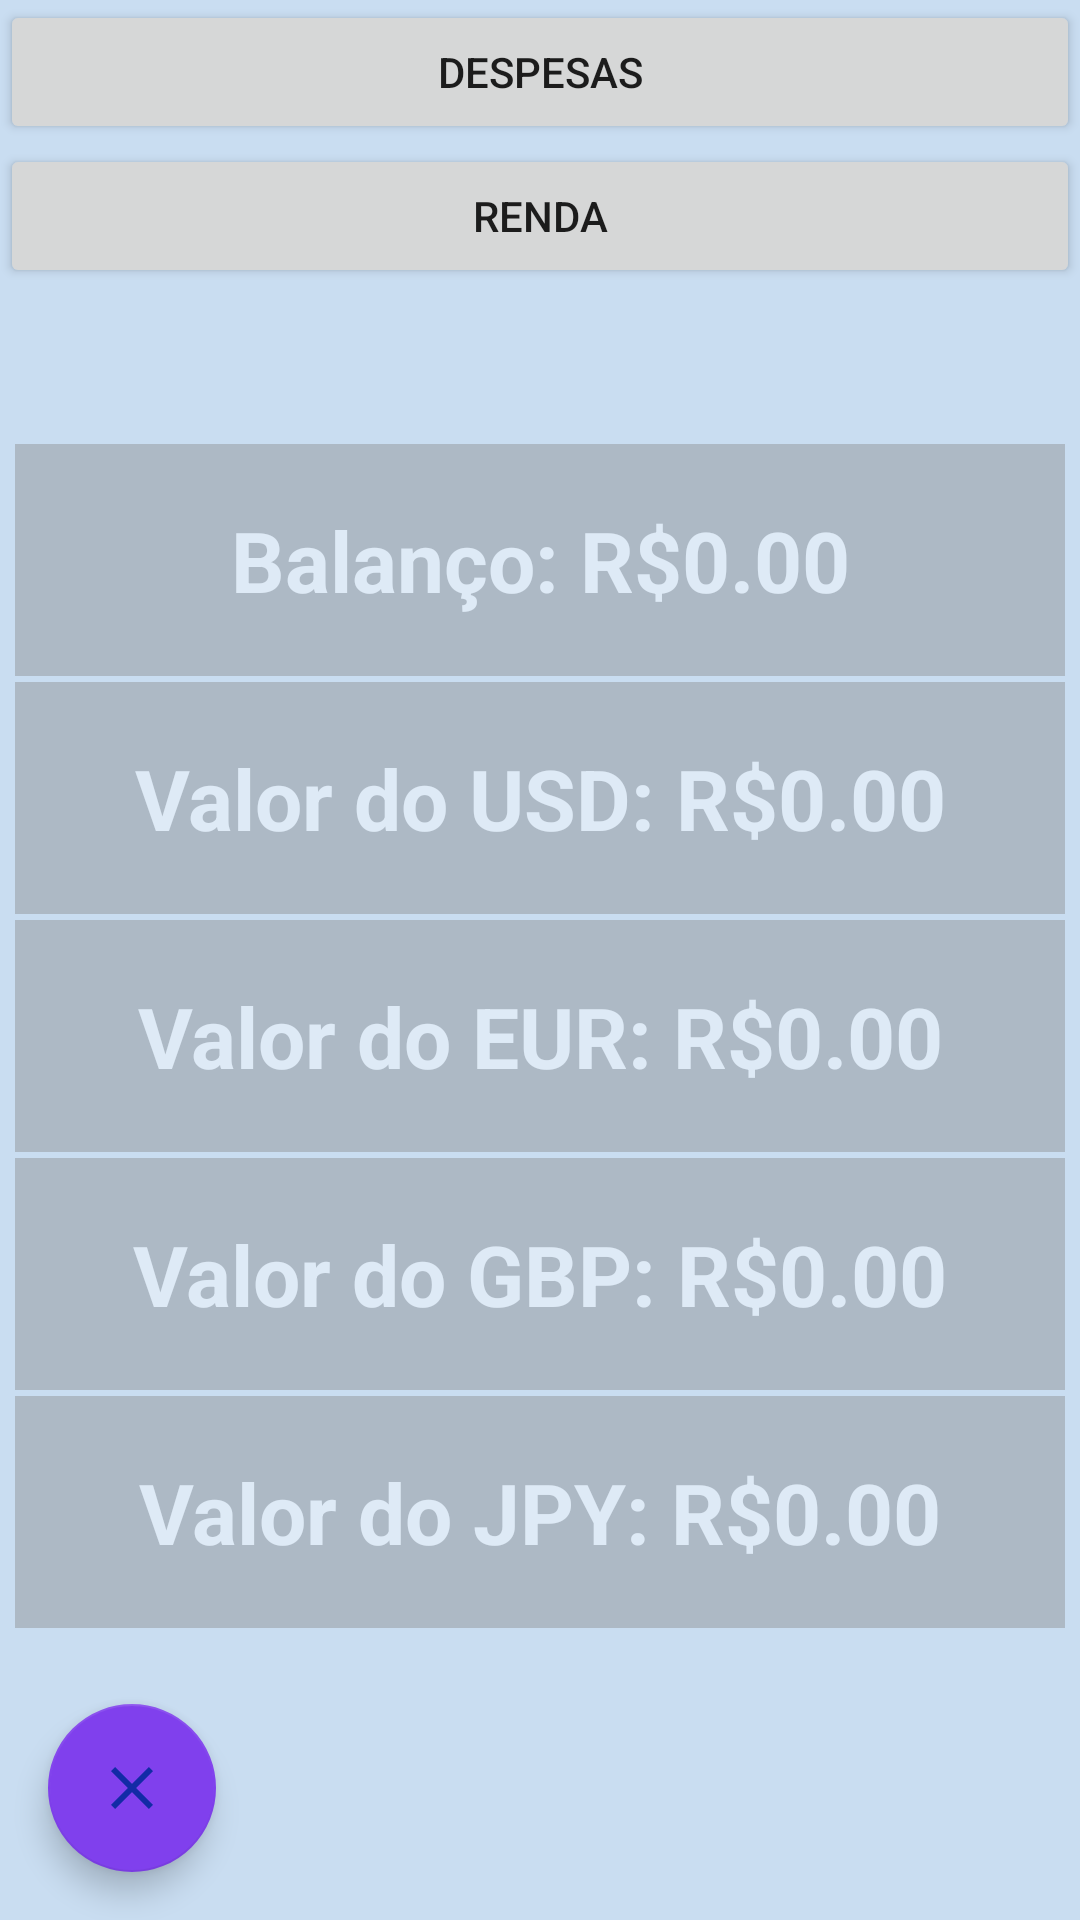

Locate icon controls on the screen. Image size 1080w x 1920h, boxes as (x1, y1, x2, y2).
close: (48, 1704, 216, 1872)
